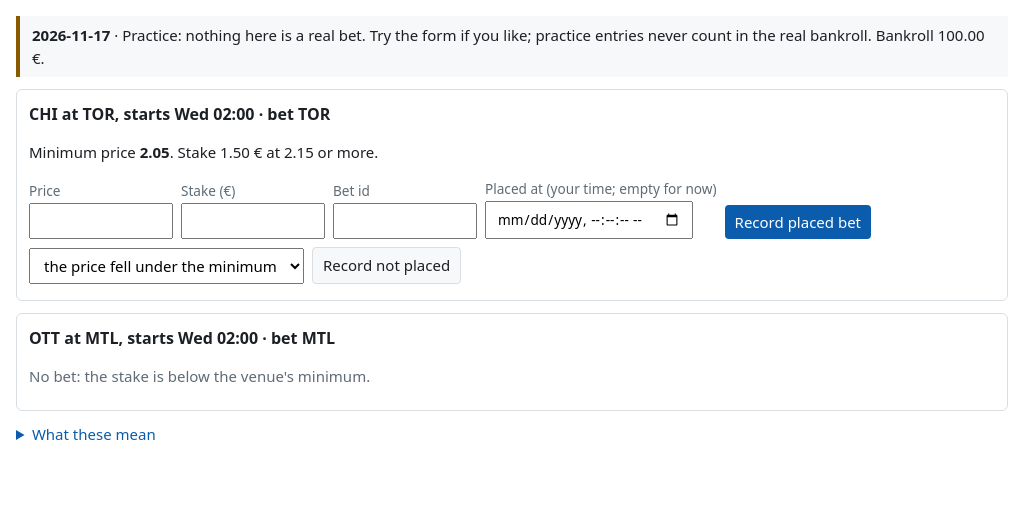
a time at or after the start is refused before anything is sent
Type "2.10" into the number field labelled "Price". click: [101, 221]
box: [29, 203, 173, 239]
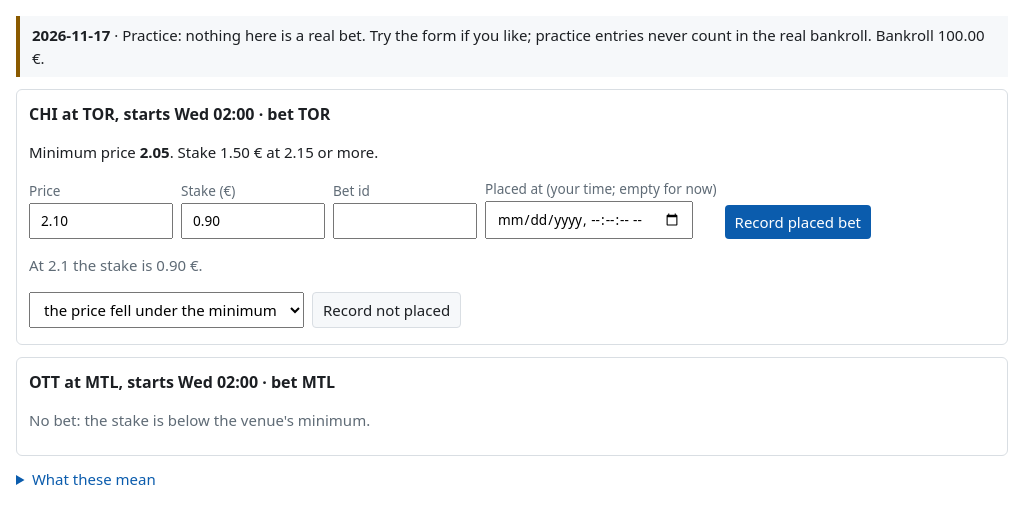
Type "P1" into the field labelled "Bet id". click: [405, 221]
box: [333, 203, 477, 239]
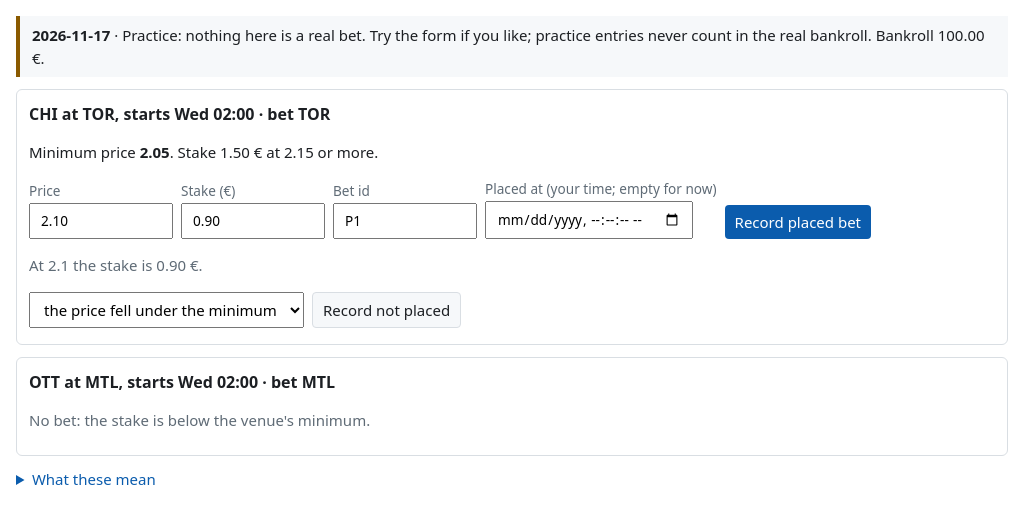
Type "2026-11-18T00:00:00" into the field labelled "Placed at (your time; empty for now)". click: [589, 220]
box: [485, 201, 693, 239]
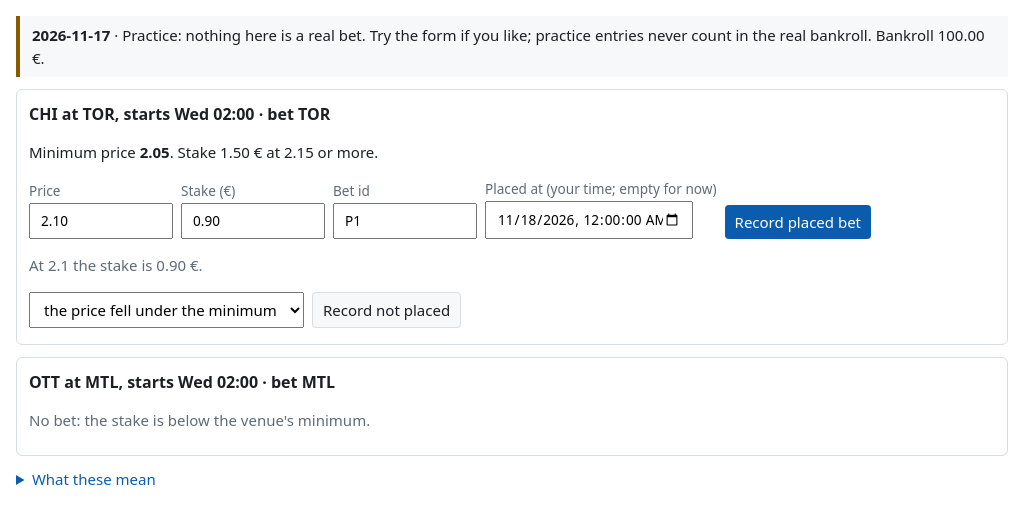
Click the button "Record placed bet". click: [798, 222]
box: [724, 205, 871, 239]
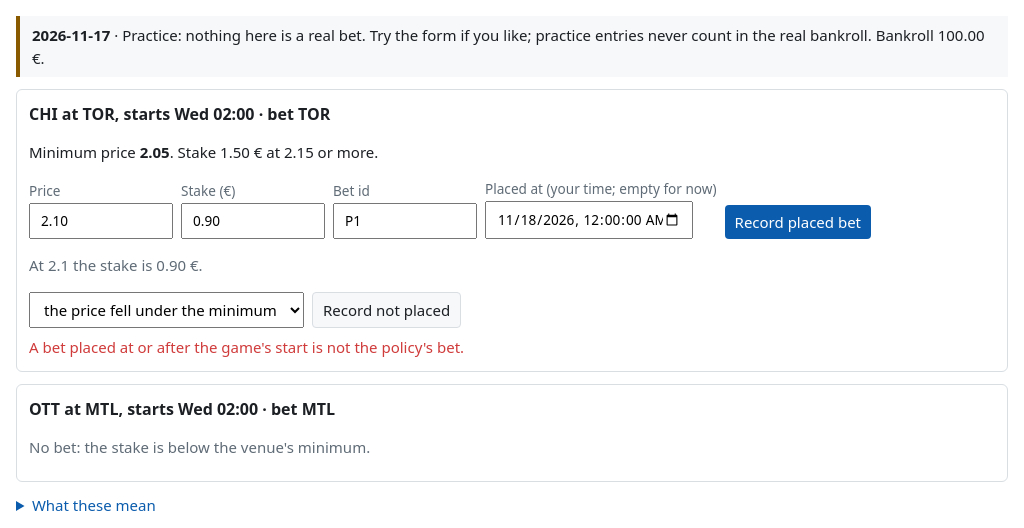
Check: the message "A bet placed at or after the game's start is not the policy's bet." is shown, box [29, 337, 464, 357]
